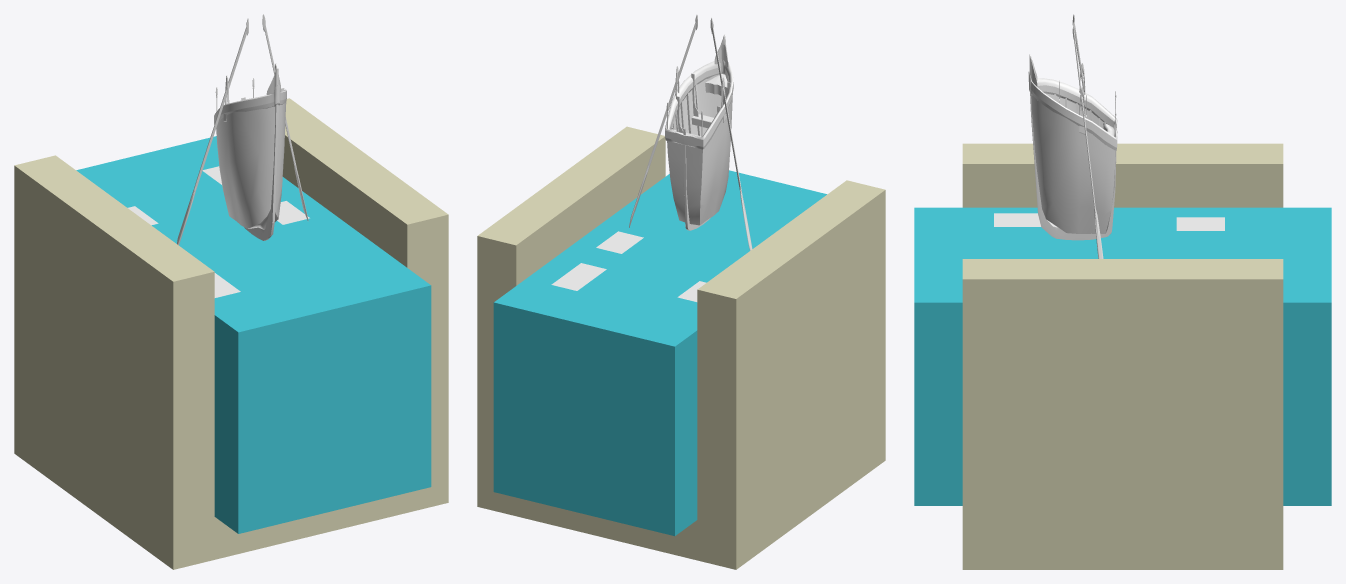
3 views of the same model, side by side, from view 1: azimuth 30°, elevation 25°; view 2: azimuth 150°, elevation 25°; view 3: azimuth 270°, elevation 25° (orthographic). The views are drawn at different scales.
Parts seen in each view (by area): view 1: Cube, Cube.001, Retopo_Cube.006; view 2: Cube, Cube.001, Retopo_Cube.006, Plane.004, Plane.002; view 3: Cube, Cube.001, Retopo_Cube.006, Plane, Plane.003.
Part boxes in pixels (<box>): Cube: <box>14,98,448,569</box>; Cube.001: <box>76,136,431,533</box>; Retopo_Cube.006: <box>177,14,308,245</box>; Cube: <box>477,126,885,569</box>; Cube.001: <box>493,170,826,536</box>; Retopo_Cube.006: <box>629,14,752,250</box>; Plane.004: <box>551,263,606,290</box>; Plane.002: <box>596,231,643,253</box>; Cube: <box>962,143,1283,569</box>; Cube.001: <box>914,207,1331,505</box>; Retopo_Cube.006: <box>1028,14,1117,258</box>; Plane: <box>1176,217,1224,230</box>; Plane.003: <box>994,213,1040,226</box>.
Size of the model in its own units: 2 by 3.33 by 2.6.
